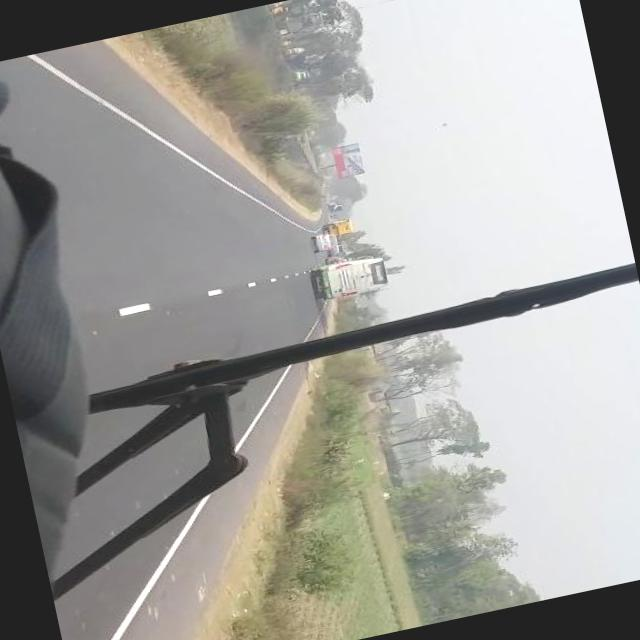bus: (313, 254, 389, 302)
car: (313, 232, 339, 252), (328, 245, 346, 258), (327, 256, 346, 266)
truck: (324, 218, 354, 240), (270, 2, 288, 16), (293, 70, 309, 83), (285, 47, 302, 58), (282, 40, 292, 48)
